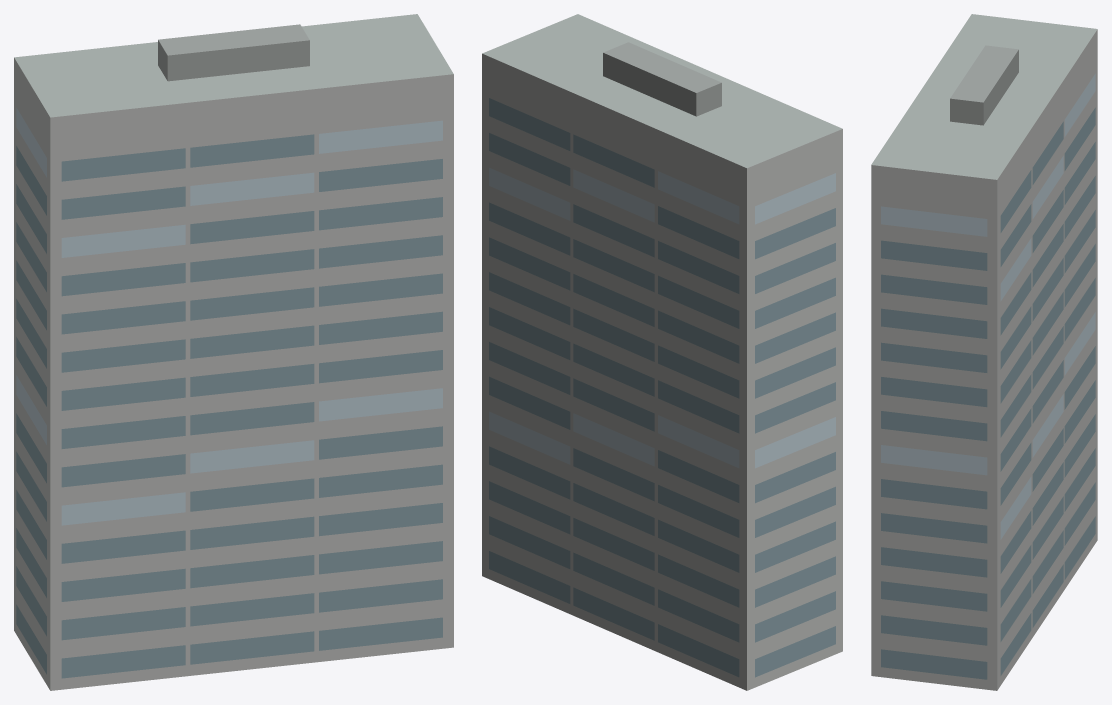
Rendered from fallback-olympic-park-foreon-427.glb.
The picture shows the model from 3 angles, left to right: view 1: azimuth 30°, elevation 25°; view 2: azimuth 150°, elevation 25°; view 3: azimuth 270°, elevation 25°; orthographic projection. The views are drawn at different scales.
Parts seen in each view (by area): view 1: fallback-olympic-park-foreon-427; view 2: fallback-olympic-park-foreon-427; view 3: fallback-olympic-park-foreon-427.
Part boxes in pixels (x1,y1,x2,y2): fallback-olympic-park-foreon-427: [14, 14, 453, 690]; fallback-olympic-park-foreon-427: [482, 14, 842, 690]; fallback-olympic-park-foreon-427: [871, 14, 1097, 690].
Size of the model in its own units: 31.86 by 47.81 by 18.39.
